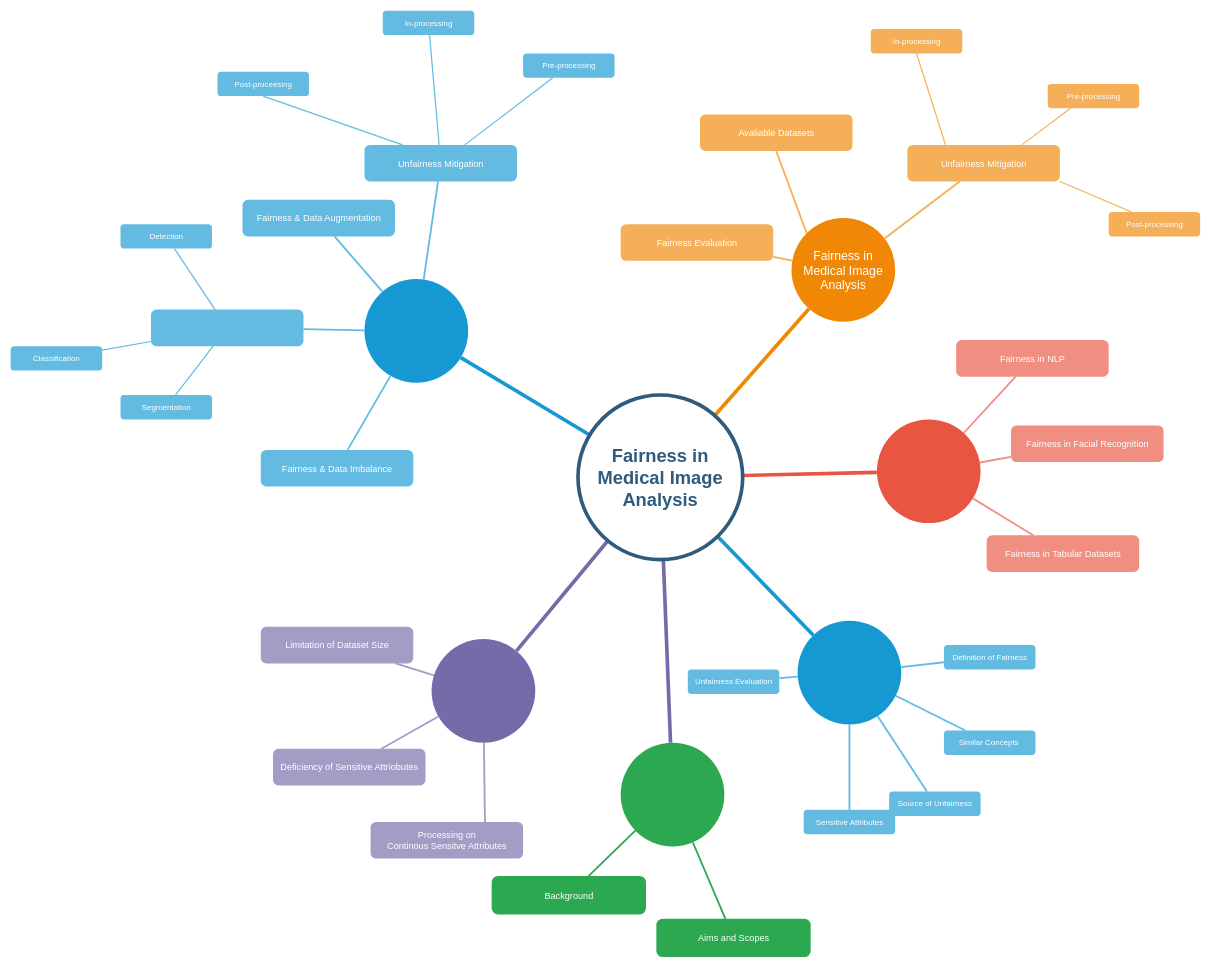
The diagram is 1210 pixels wide and 967 high, and some of its shapes have lost their labels. Here are the shapes that lost their labels. From the top down, the box of each, then its label:
(151, 309, 303, 346): Fairness Existance
(364, 279, 468, 382): Experiments
(877, 419, 980, 523): Fairness in Deep Learning
(431, 639, 535, 742): Opportunities and Challenges
(797, 620, 901, 724): Concepts of Fairness
(620, 742, 724, 846): Introduction
